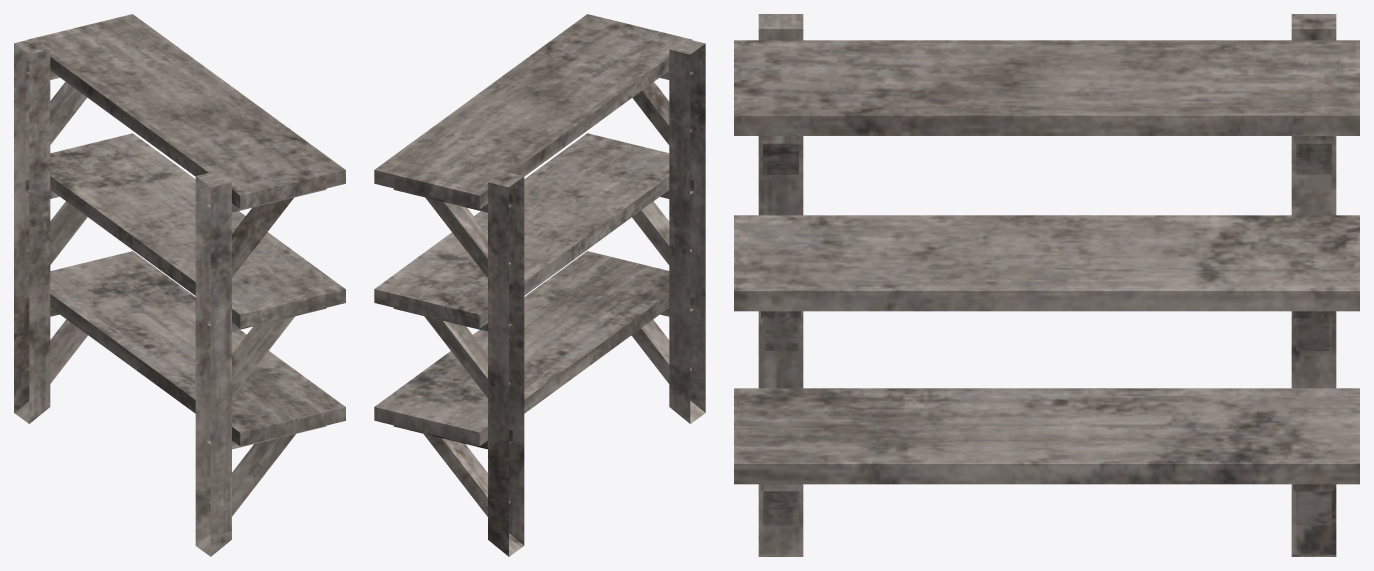
Rendered from SM_Wall_Shelf.FBX.
3 renders of one model, left to right at view 1: azimuth 30°, elevation 25°; view 2: azimuth 150°, elevation 25°; view 3: azimuth 270°, elevation 25°, orthographic. The views are drawn at different scales.
Visible parts, largest first — view 1: SM_Wall_Shelf; view 2: SM_Wall_Shelf; view 3: SM_Wall_Shelf.
Boxes of the visible parts, x1=… form: SM_Wall_Shelf: x1=14, y1=14, x2=345, y2=556; SM_Wall_Shelf: x1=374, y1=14, x2=705, y2=556; SM_Wall_Shelf: x1=734, y1=14, x2=1359, y2=556.
Bounding box in the file's own units: 34.68 × 96.71 × 101.
